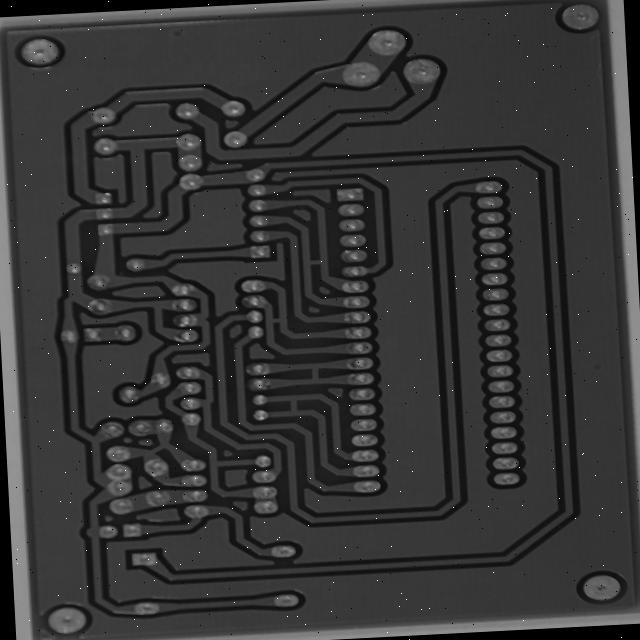short: (141, 447, 185, 471), (318, 366, 349, 394), (316, 254, 348, 279), (275, 314, 308, 338), (297, 400, 323, 425)
